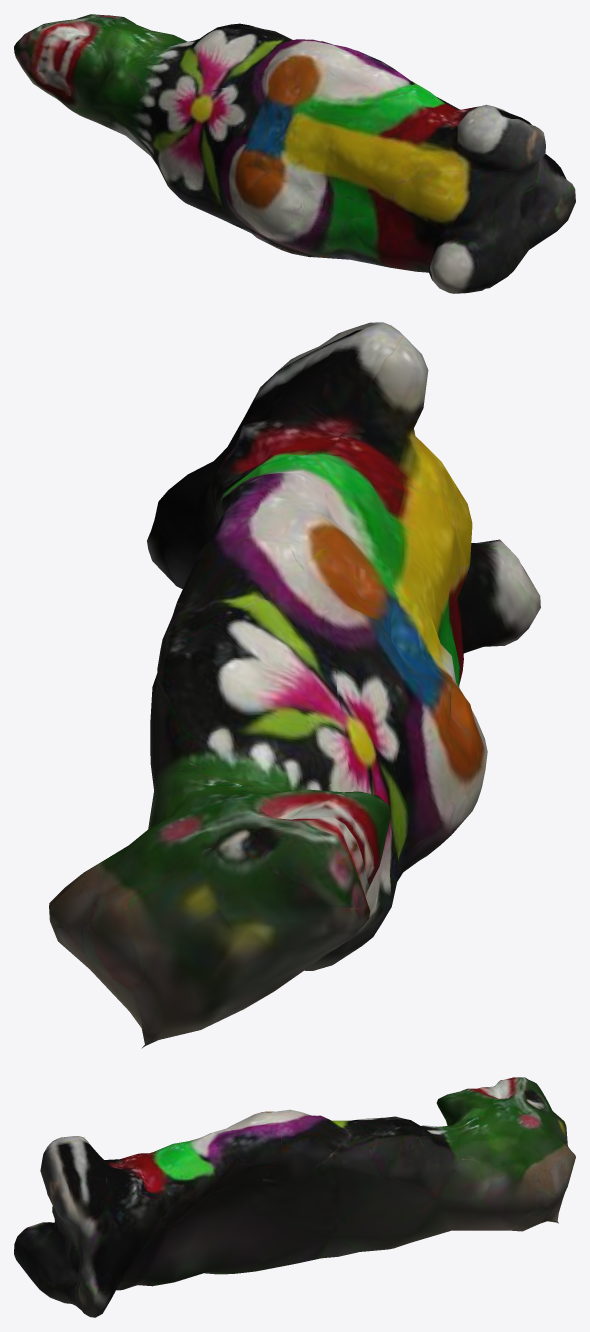
The model's file is hall.glb.
The picture shows the model from 3 angles, top to bottom: view 1: azimuth 30°, elevation 25°; view 2: azimuth 150°, elevation 25°; view 3: azimuth 270°, elevation 25°; orthographic projection. The views are drawn at different scales.
Bounding box in the file's own units: 0.5628 × 0.3064 × 0.8638.
Materials: 1 (1 with a texture image).
